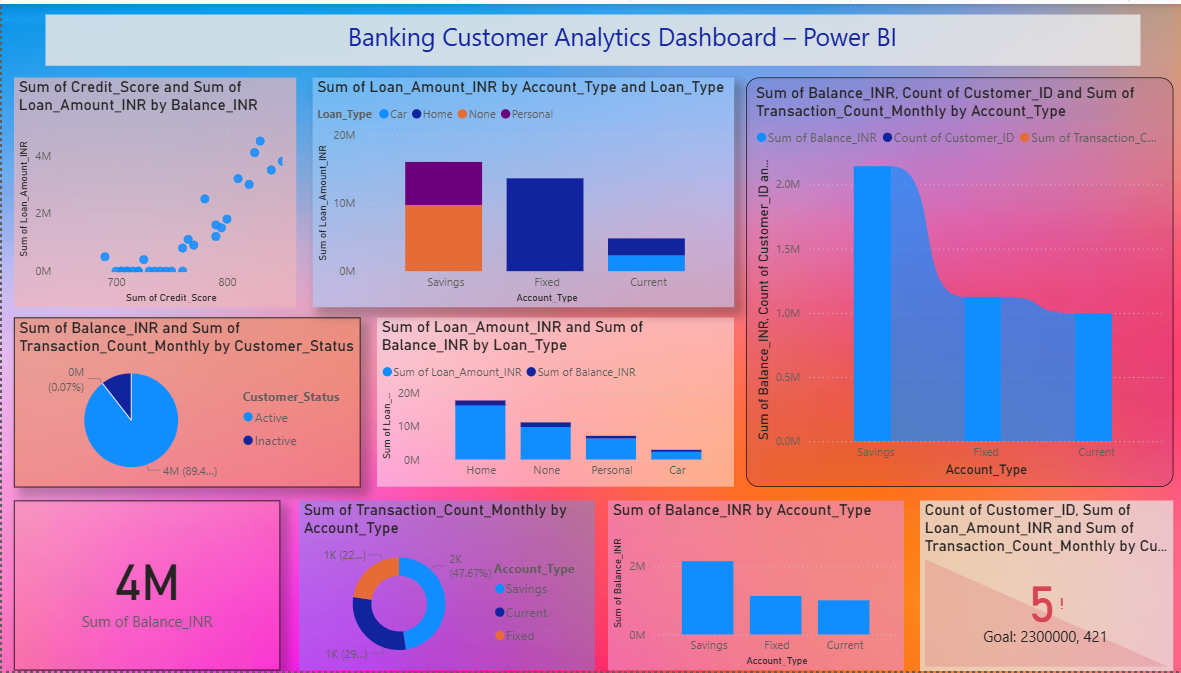

The page's visual inventory and layout, read from the dashboard file:
{"tool":"powerbi","page":{"name":"Page 1","canvas":[1280,720],"ordinal":0},"visuals":[{"type":"card","fields":{"Values":["Sum(Banking_Customer_Analytics_Dashboard_Dataset.Balance_INR)"]},"box":[13.2,536.7,287.2,183.3],"z":0},{"type":"donutChart","fields":{"Category":["Banking_Customer_Analytics_Dashboard_Dataset.Account_Type"],"Y":["Sum(Banking_Customer_Analytics_Dashboard_Dataset.Transaction_Count_Monthly)"]},"box":[319,534.3,320.6,184.6],"z":1000},{"type":"clusteredColumnChart","fields":{"Category":["Banking_Customer_Analytics_Dashboard_Dataset.Account_Type"],"Y":["Sum(Banking_Customer_Analytics_Dashboard_Dataset.Balance_INR)"]},"box":[653.9,536.7,319.4,183.3],"z":2000},{"type":"pieChart","fields":{"Category":["Banking_Customer_Analytics_Dashboard_Dataset.Customer_Status"],"Y":["Sum(Banking_Customer_Analytics_Dashboard_Dataset.Balance_INR)","Sum(Banking_Customer_Analytics_Dashboard_Dataset.Transaction_Count_Monthly)"]},"box":[13.2,338.3,374.2,183.3],"z":3000},{"type":"kpi","fields":{"Indicator":["CountNonNull(Banking_Customer_Analytics_Dashboard_Dataset.Customer_ID)"],"Goal":["Sum(Banking_Customer_Analytics_Dashboard_Dataset.Loan_Amount_INR)","Sum(Banking_Customer_Analytics_Dashboard_Dataset.Transaction_Count_Monthly)"],"TrendLine":["Banking_Customer_Analytics_Dashboard_Dataset.Customer_Status"]},"box":[991,536,273.6,184.6],"z":4000},{"type":"columnChart","fields":{"Category":["Banking_Customer_Analytics_Dashboard_Dataset.Loan_Type"],"Y":["Sum(Banking_Customer_Analytics_Dashboard_Dataset.Loan_Amount_INR)","Sum(Banking_Customer_Analytics_Dashboard_Dataset.Balance_INR)"]},"box":[404.8,340,385.4,183],"z":5000},{"type":"ribbonChart","fields":{"Category":["Banking_Customer_Analytics_Dashboard_Dataset.Account_Type"],"Y":["Sum(Banking_Customer_Analytics_Dashboard_Dataset.Balance_INR)","CountNonNull(Banking_Customer_Analytics_Dashboard_Dataset.Customer_ID)","Sum(Banking_Customer_Analytics_Dashboard_Dataset.Transaction_Count_Monthly)"]},"box":[803.1,79.3,461.5,442],"z":6000},{"type":"textbox","box":[47,11.3,1182,55.1],"z":7000},{"type":"scatterChart","fields":{"X":["Sum(Banking_Customer_Analytics_Dashboard_Dataset.Credit_Score)"],"Y":["Sum(Banking_Customer_Analytics_Dashboard_Dataset.Loan_Amount_INR)"],"Category":["Banking_Customer_Analytics_Dashboard_Dataset.Balance_INR"]},"box":[13,79.3,304.4,247.7],"z":8000},{"type":"columnChart","fields":{"Category":["Banking_Customer_Analytics_Dashboard_Dataset.Account_Type"],"Y":["Sum(Banking_Customer_Analytics_Dashboard_Dataset.Loan_Amount_INR)"],"Series":["Banking_Customer_Analytics_Dashboard_Dataset.Loan_Type"]},"box":[335.2,79.3,455,247.7],"z":9000}]}

Visuals, with their boxes in screenshot pixels (x1, y1, x2, y2), scaled from the page's 1280x720 canvas onto the 1181x673 screenshot:
card - Sum(Banking_Customer_Analytics_Dashboard_Dataset.Balance_INR): box=[12, 502, 277, 672]
donutChart - Banking_Customer_Analytics_Dashboard_Dataset.Account_Type x Sum(Banking_Customer_Analytics_Dashboard_Dataset.Transaction_Count_Monthly): box=[294, 499, 590, 672]
clusteredColumnChart - Banking_Customer_Analytics_Dashboard_Dataset.Account_Type x Sum(Banking_Customer_Analytics_Dashboard_Dataset.Balance_INR): box=[603, 502, 898, 672]
pieChart - Banking_Customer_Analytics_Dashboard_Dataset.Customer_Status x Sum(Banking_Customer_Analytics_Dashboard_Dataset.Balance_INR): box=[12, 316, 357, 488]
kpi - CountNonNull(Banking_Customer_Analytics_Dashboard_Dataset.Customer_ID) x Sum(Banking_Customer_Analytics_Dashboard_Dataset.Loan_Amount_INR): box=[914, 501, 1167, 672]
columnChart - Banking_Customer_Analytics_Dashboard_Dataset.Loan_Type x Sum(Banking_Customer_Analytics_Dashboard_Dataset.Loan_Amount_INR): box=[373, 318, 729, 489]
ribbonChart - Banking_Customer_Analytics_Dashboard_Dataset.Account_Type x Sum(Banking_Customer_Analytics_Dashboard_Dataset.Balance_INR): box=[741, 74, 1167, 487]
textbox: box=[43, 11, 1134, 62]
scatterChart - Sum(Banking_Customer_Analytics_Dashboard_Dataset.Credit_Score) x Sum(Banking_Customer_Analytics_Dashboard_Dataset.Loan_Amount_INR): box=[12, 74, 293, 306]
columnChart - Banking_Customer_Analytics_Dashboard_Dataset.Account_Type x Sum(Banking_Customer_Analytics_Dashboard_Dataset.Loan_Amount_INR): box=[309, 74, 729, 306]
